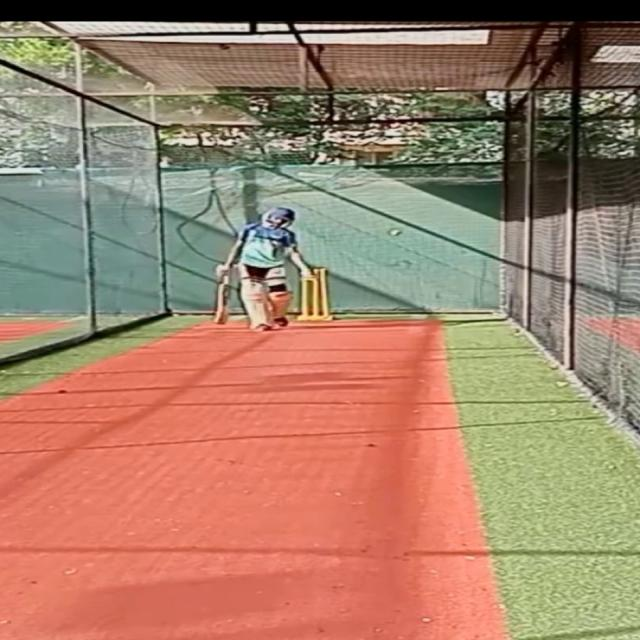stump: (300, 266, 334, 321)
